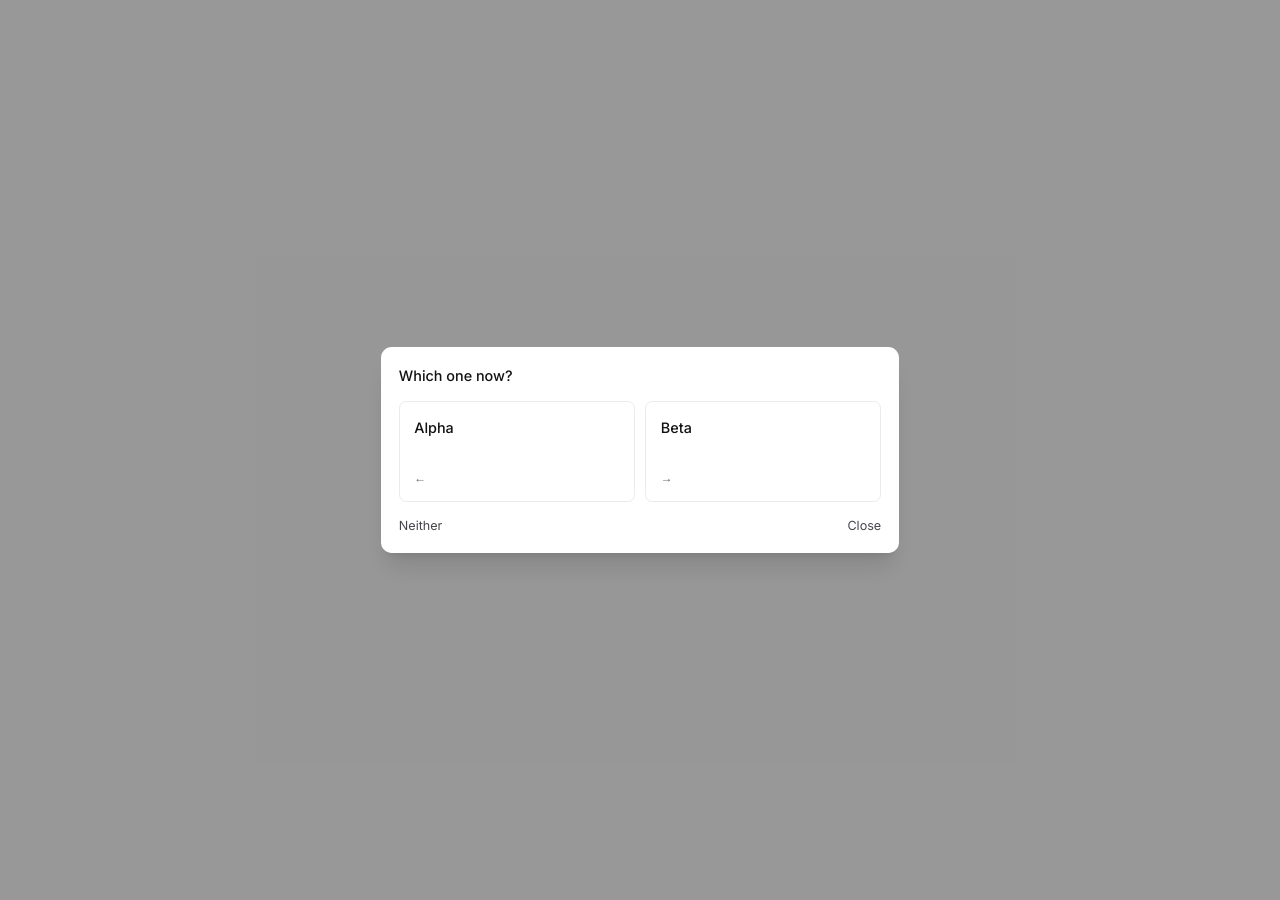
it: ThisOrThat › skips both and ends when nothing is left
The image size is (1280, 900).
Click the button "Neither" at (421, 526), box 399,517 -> 442,535
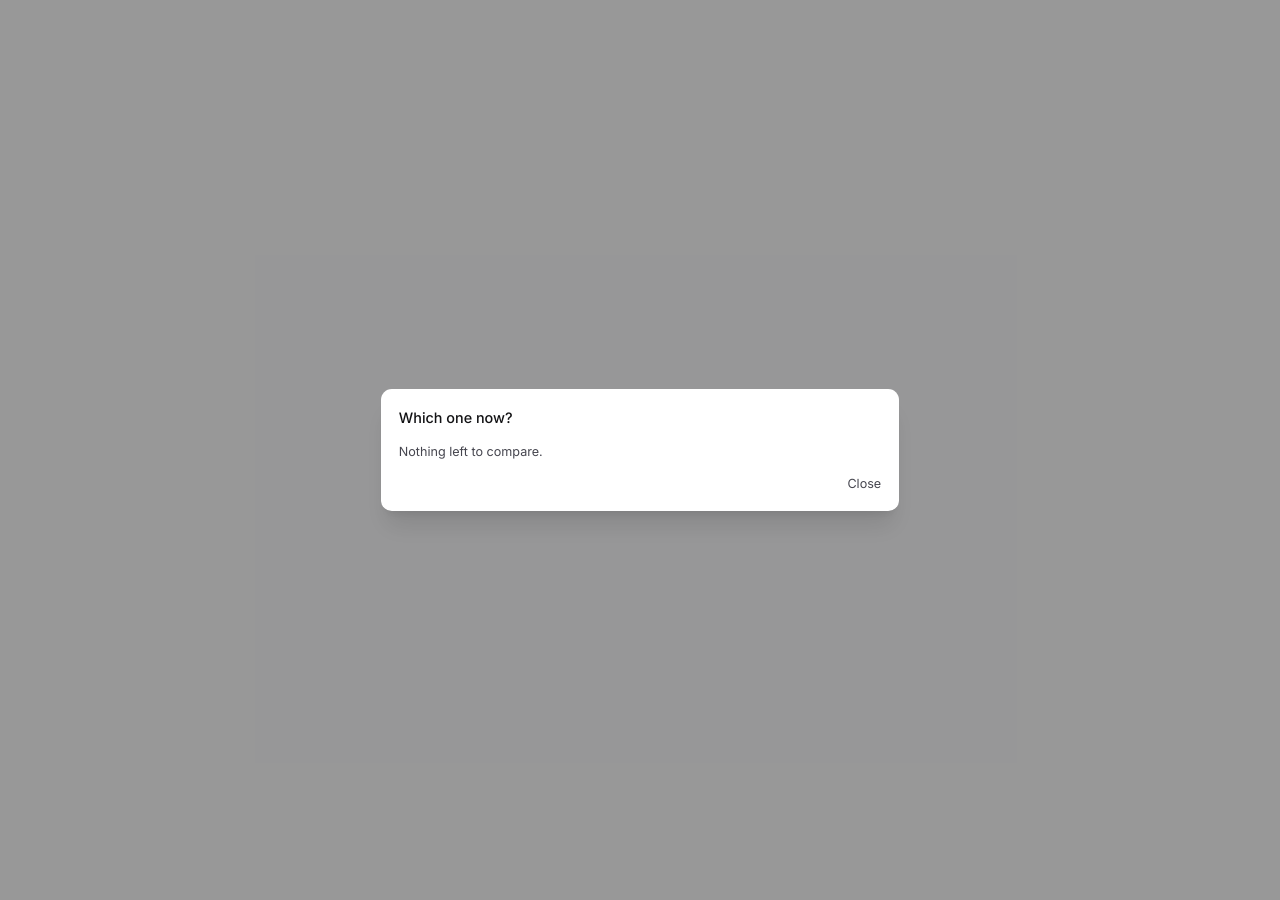
Expected: the text "Nothing left to compare." is shown, 399,444 -> 543,459
